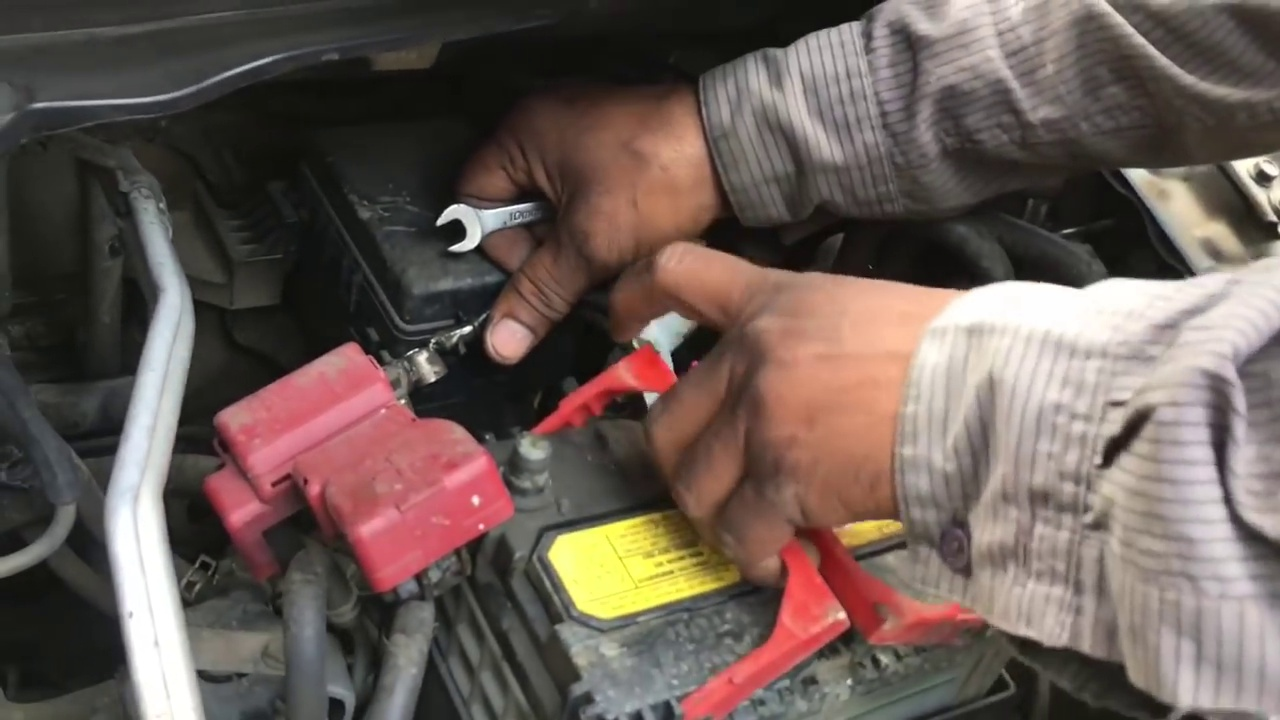battery: (476, 356, 1013, 720)
pos_disconnected: (296, 276, 622, 552)
pos_touched: (328, 138, 741, 583)
